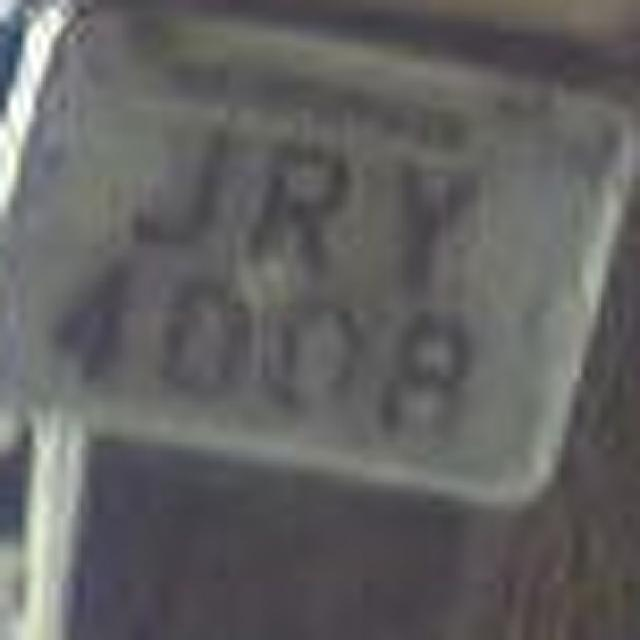0: (148, 256, 252, 416)
2: (304, 284, 404, 431)
4: (44, 228, 151, 420)
8: (380, 288, 488, 460)
J: (96, 104, 232, 264)
R: (236, 124, 356, 288)
Y: (355, 136, 480, 292)
